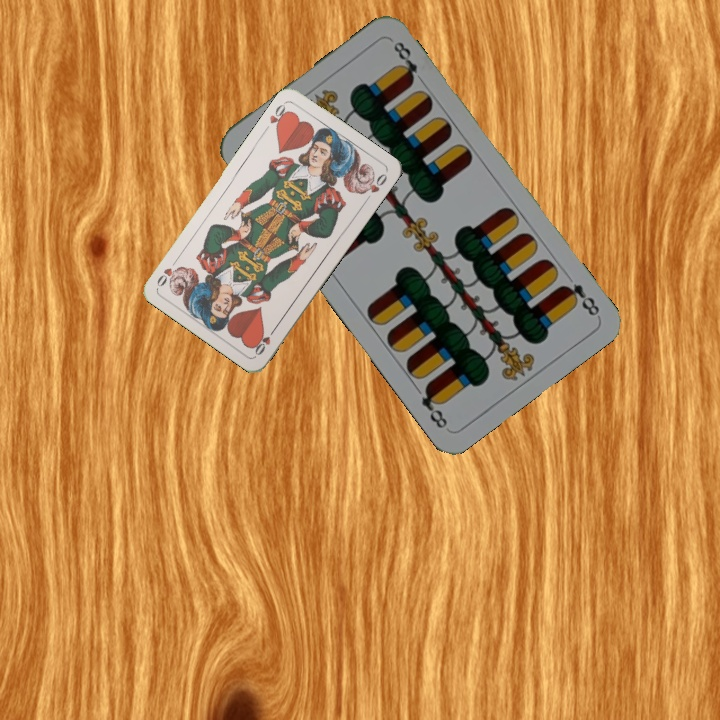E8: (557, 280, 602, 319)
HO: (250, 322, 279, 358), (265, 98, 292, 133)
